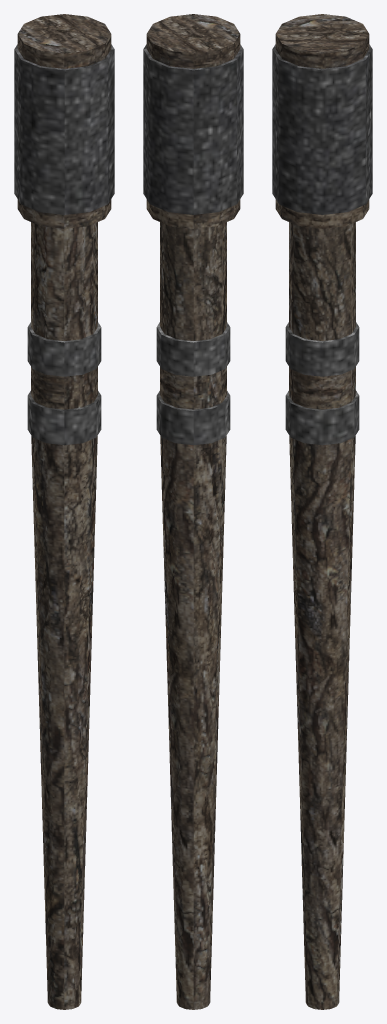
The model's file is Torch.fbx.
3 views of the same model, side by side, from view 1: azimuth 30°, elevation 25°; view 2: azimuth 210°, elevation 25°; view 3: azimuth 270°, elevation 25° (orthographic).
Parts seen in each view (by area): view 1: FireTorch; view 2: FireTorch; view 3: FireTorch.
Part boxes in pixels (box(x1,y1,x2,y2)): FireTorch: box(14, 14, 114, 1009); FireTorch: box(143, 14, 243, 1009); FireTorch: box(272, 14, 372, 1009).
Size of the model in its own units: 7.5 by 80 by 7.5.
2 materials, 2 textured.
